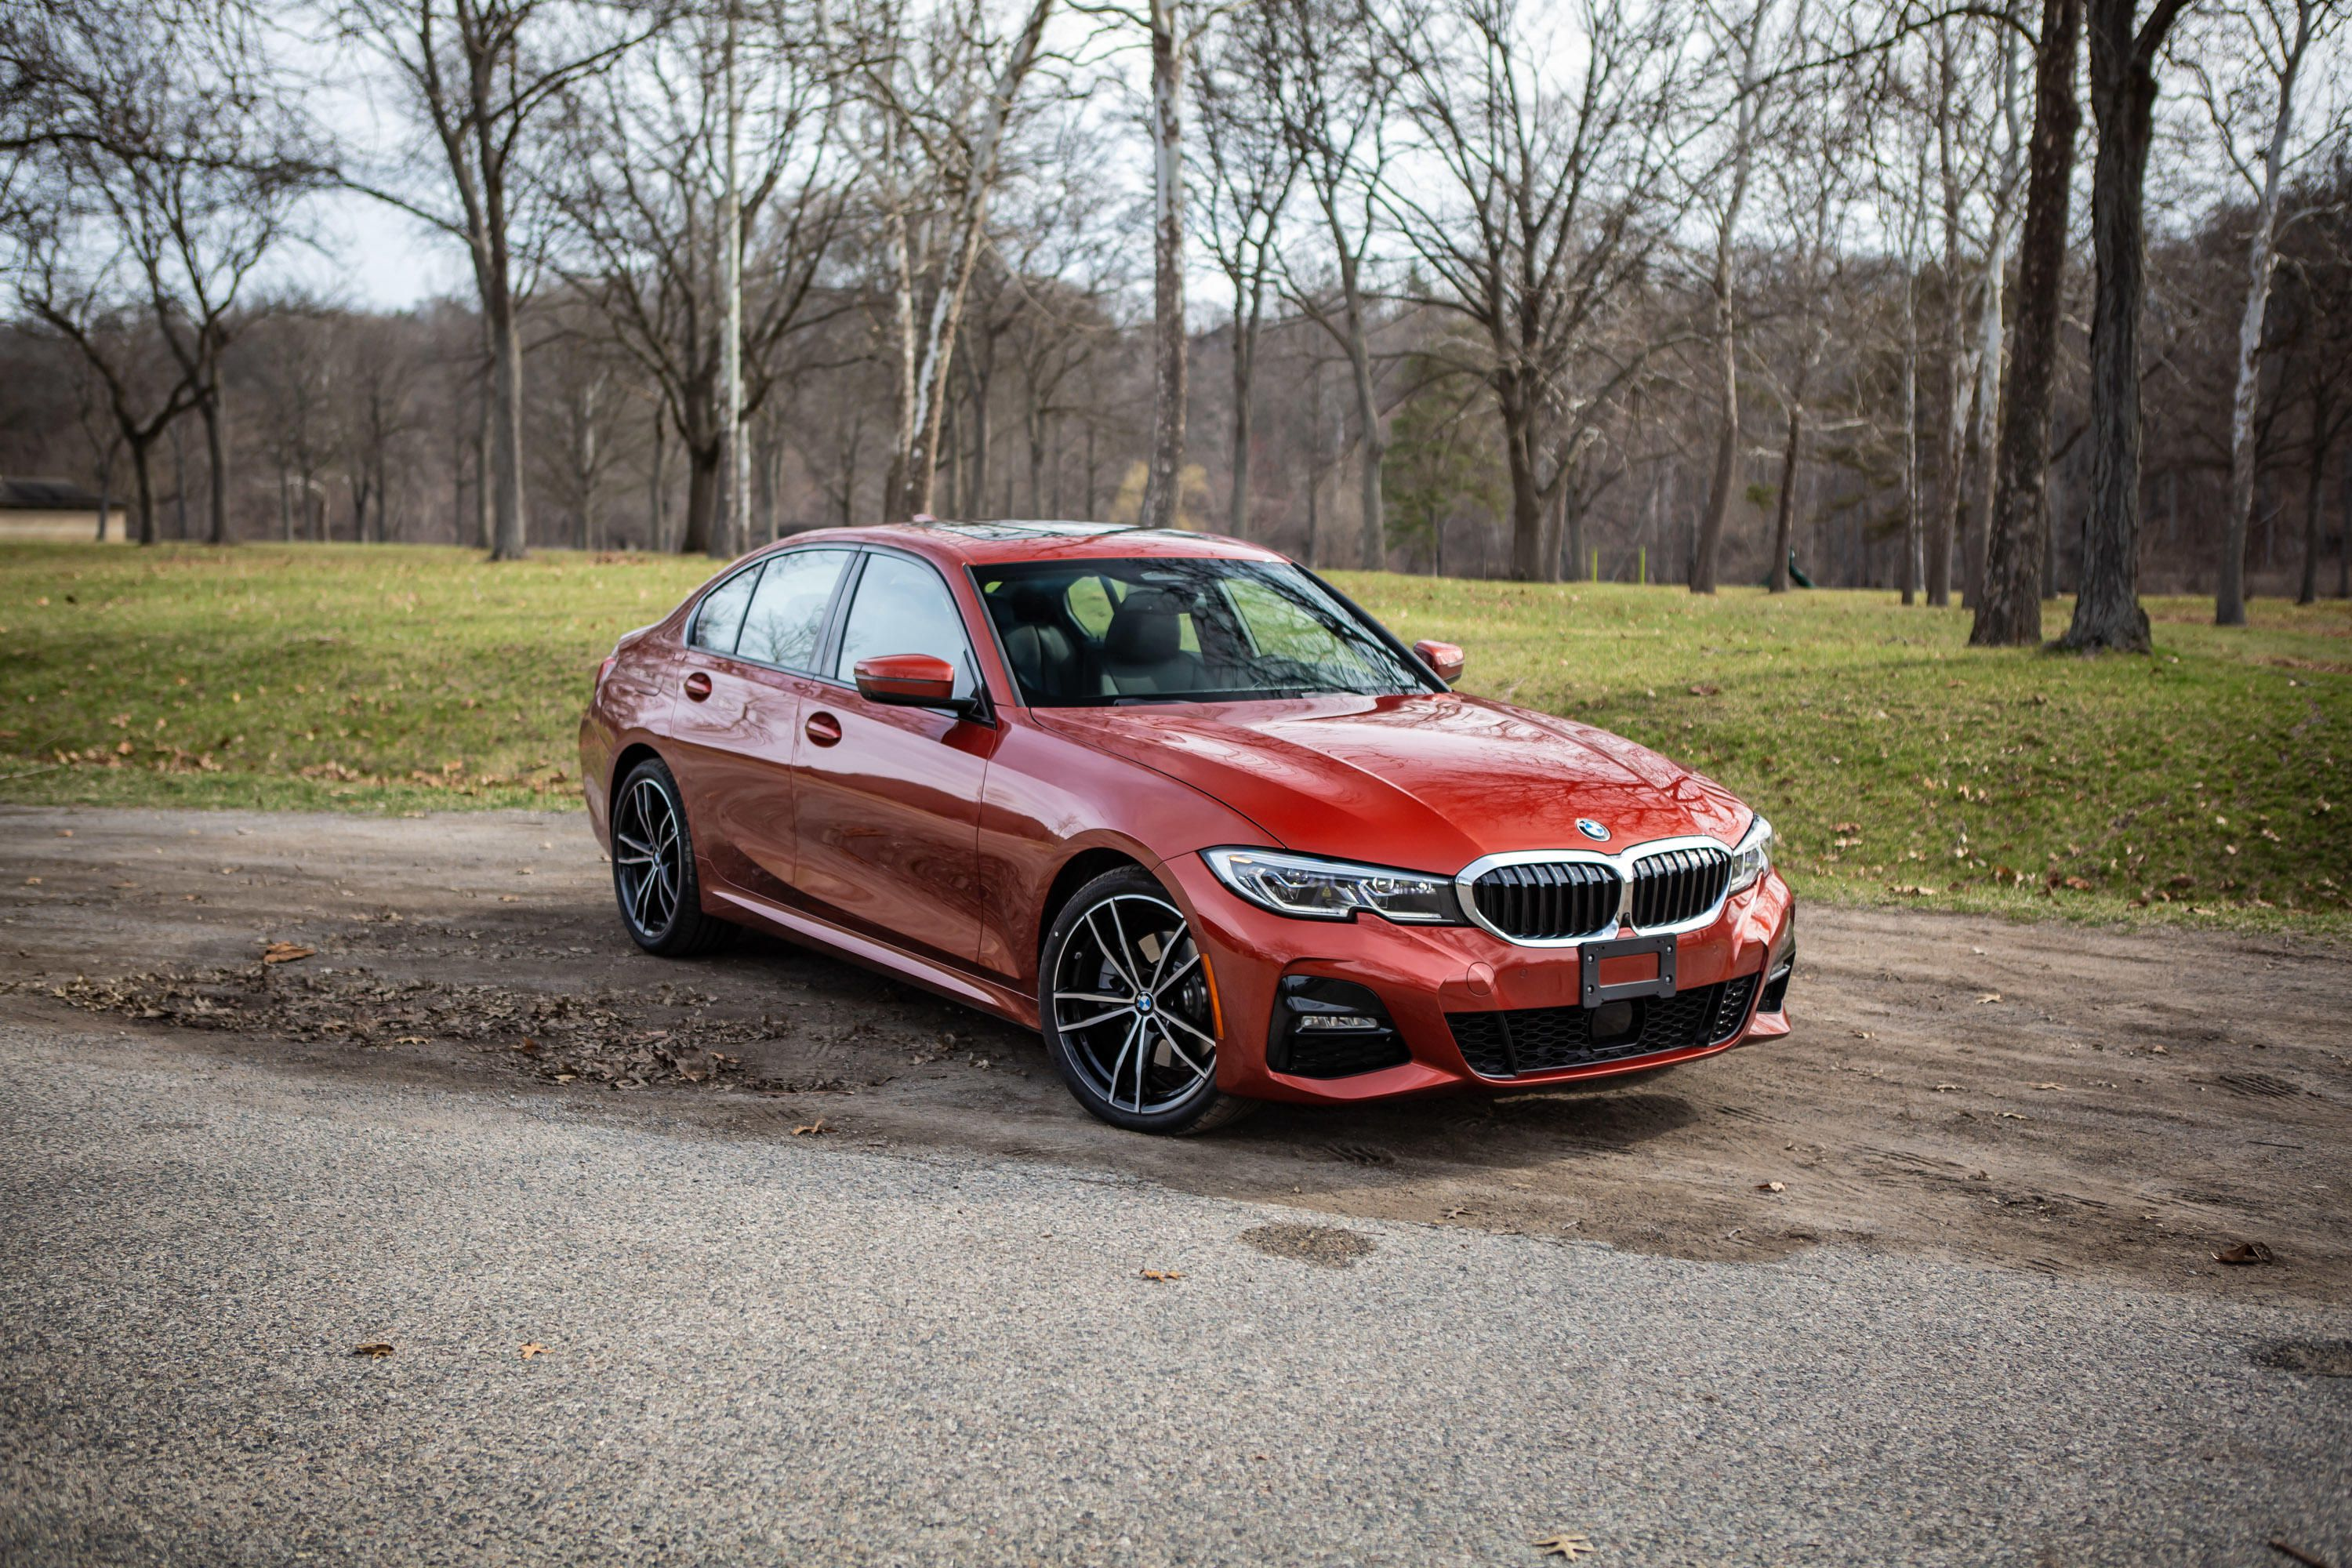car: (577, 520, 1799, 1143)
